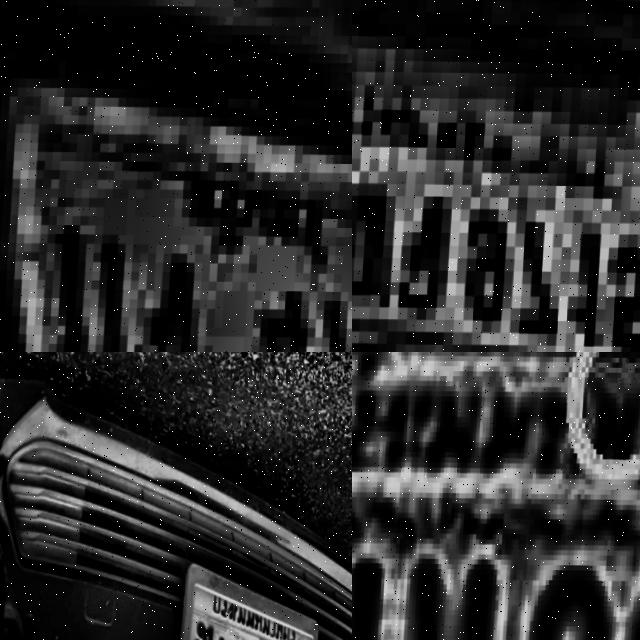license-plate: (0, 49, 352, 352), (352, 0, 640, 352), (352, 352, 640, 640), (172, 557, 328, 640)
